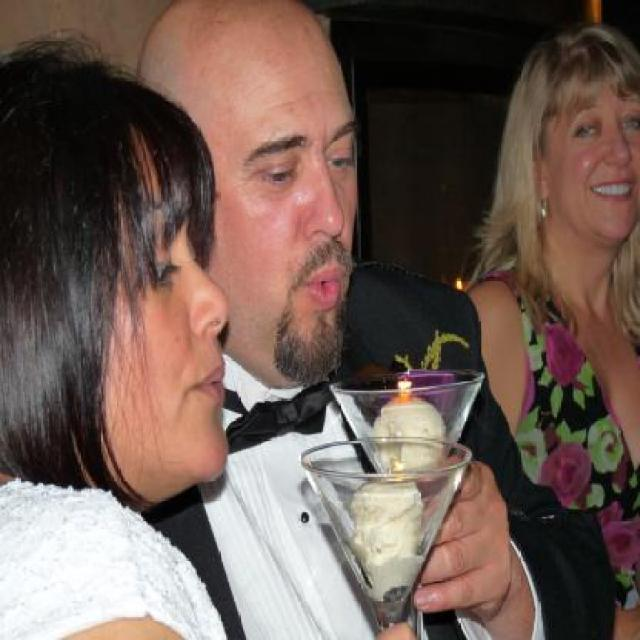Ice cream: (348, 468, 428, 602), (369, 392, 446, 482)
